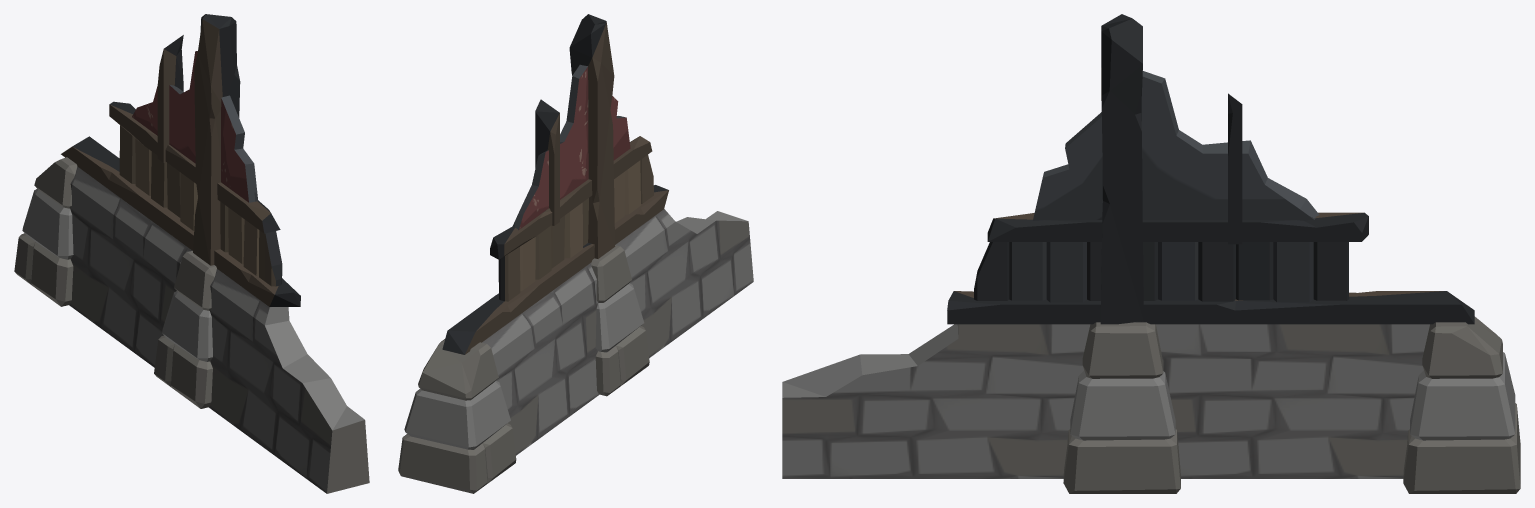
The model's file is SM_Prop_Destroyed_House_Piece_07_Burnt.fbx.
The picture shows the model from 3 angles, left to right: view 1: azimuth 30°, elevation 25°; view 2: azimuth 150°, elevation 25°; view 3: azimuth 270°, elevation 25°; orthographic projection. The views are drawn at different scales.
Visible parts, largest first — view 1: SM_Prop_Destroyed_House_Piece_07_Burnt; view 2: SM_Prop_Destroyed_House_Piece_07_Burnt; view 3: SM_Prop_Destroyed_House_Piece_07_Burnt.
Part boxes in pixels (x1,y1,x2,y2): SM_Prop_Destroyed_House_Piece_07_Burnt: (14, 14, 369, 493); SM_Prop_Destroyed_House_Piece_07_Burnt: (398, 14, 753, 493); SM_Prop_Destroyed_House_Piece_07_Burnt: (782, 14, 1520, 493).
Bounding box in the file's own units: 85.25 × 365 × 543.
Materials: 1 (1 with a texture image).
